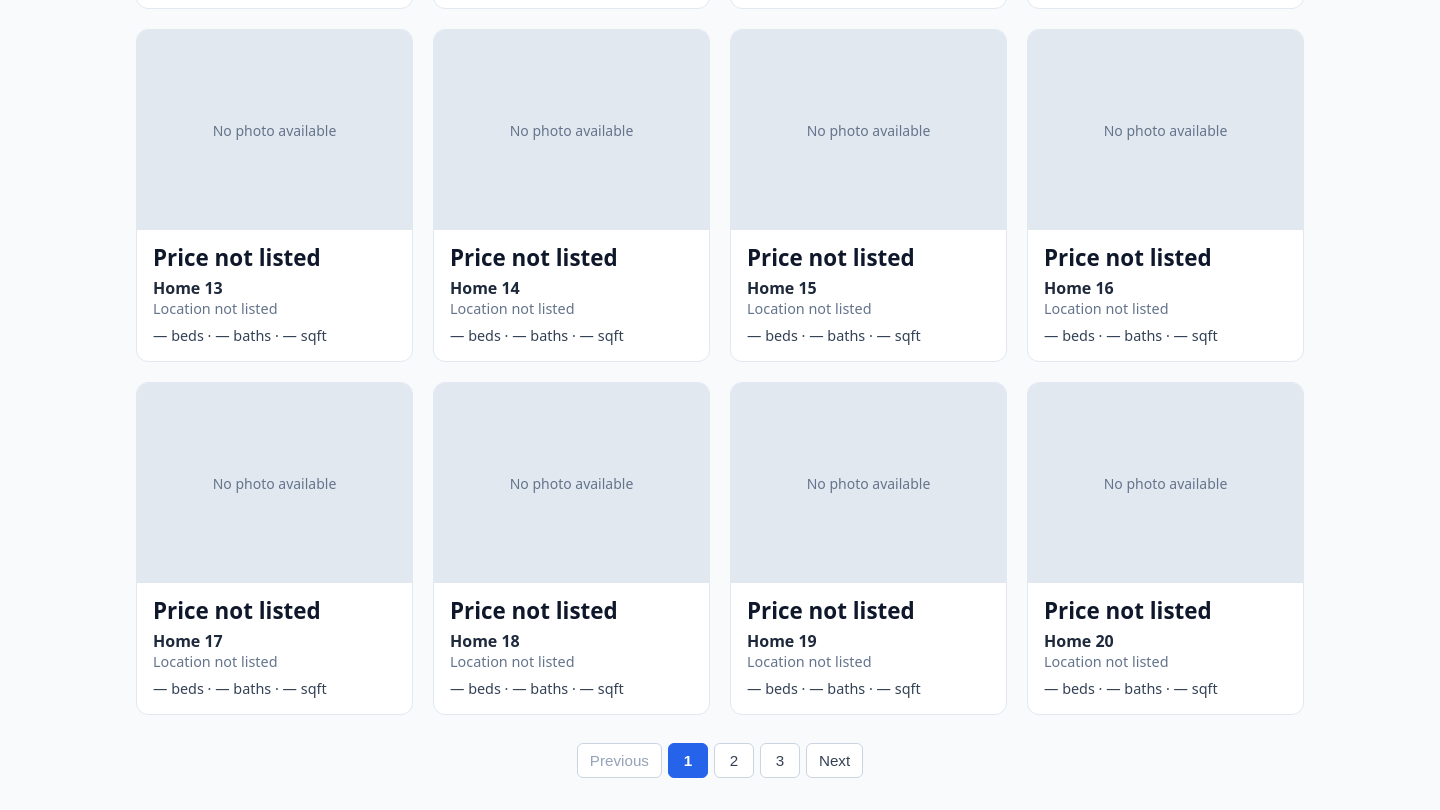
the summary on a part-full last page stops at the total
(page scrolled)
Step 1. Click the button named "Page 3" → (780, 760), box [760,743,800,778]
(page scrolled)
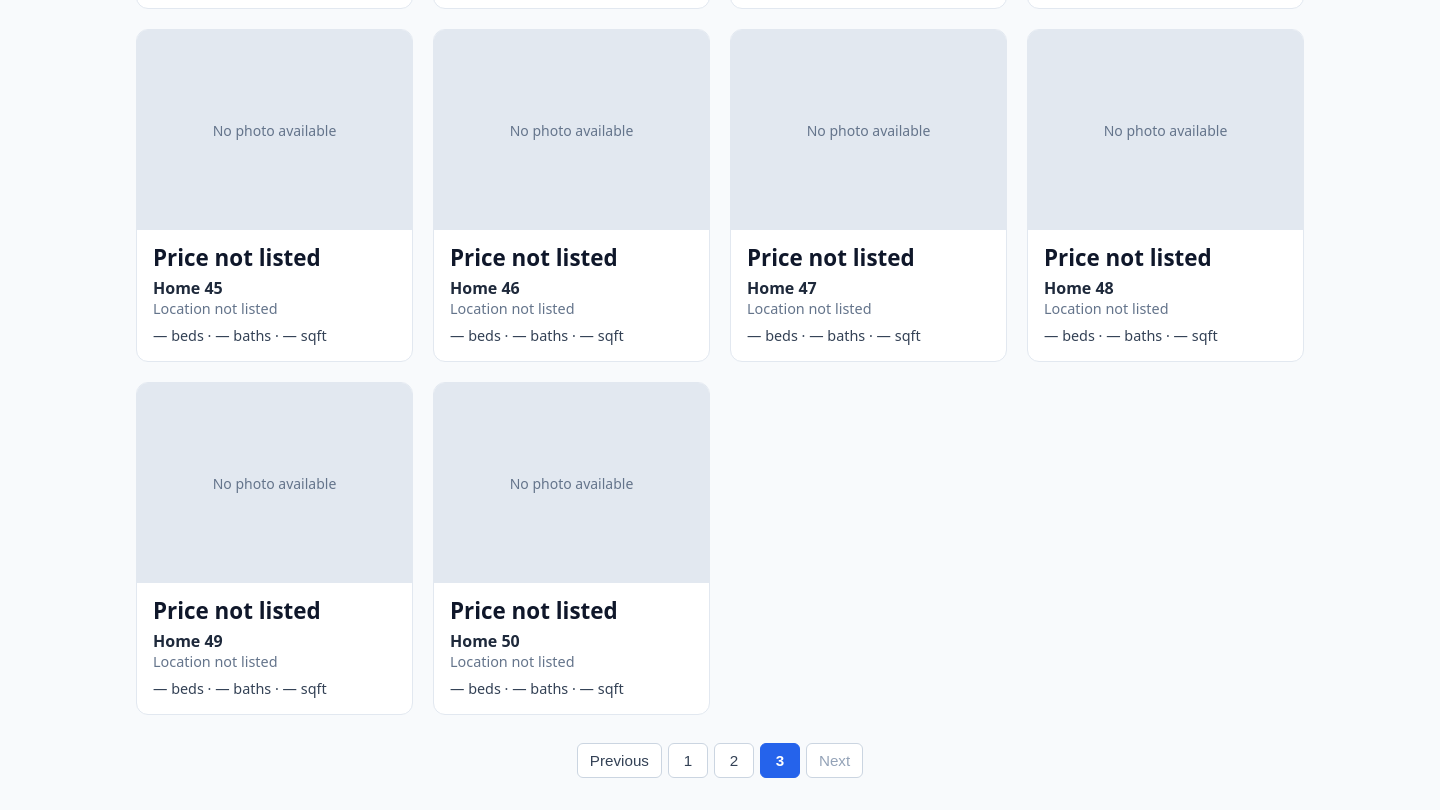
Result: the button "Next" is disabled at [806,743,863,778]
